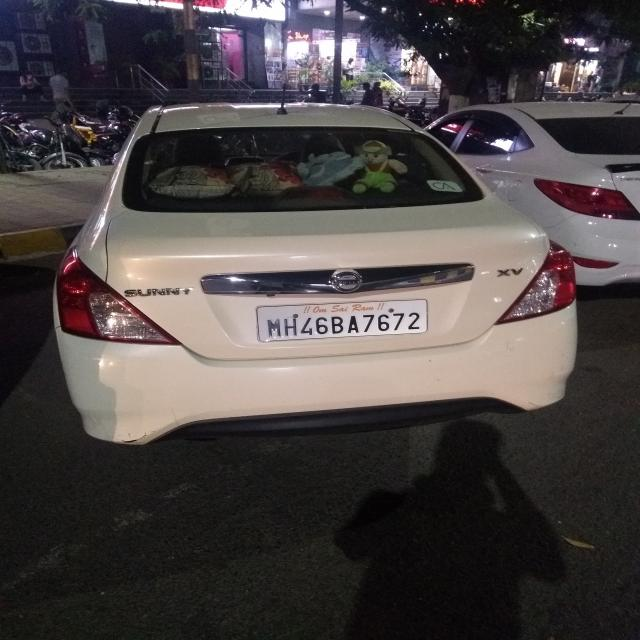Number-Plate: (260, 303, 430, 342)
